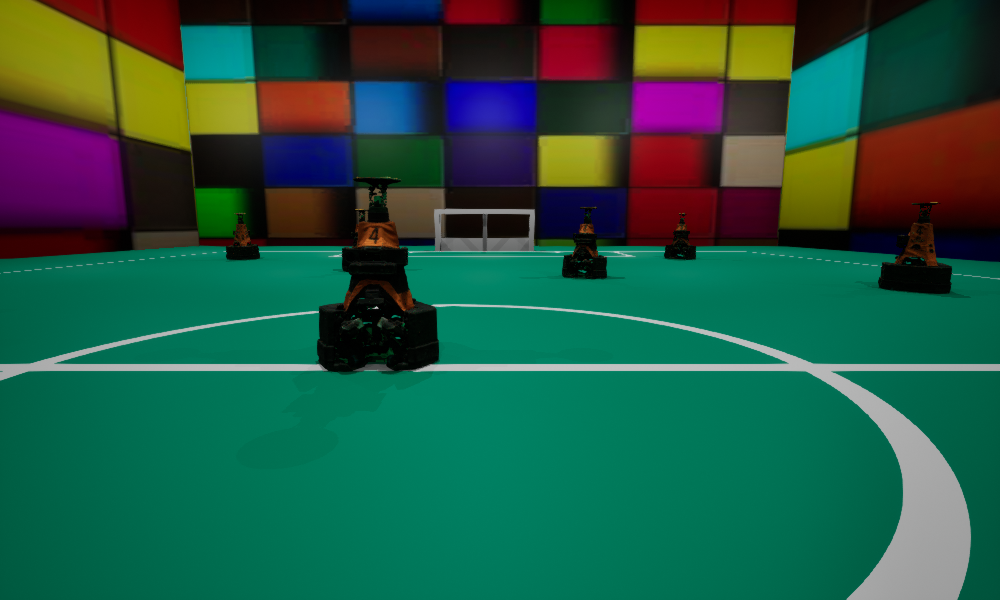0 orange robot TechUnited: (317, 177, 438, 371), (878, 202, 951, 293), (562, 207, 606, 277), (342, 209, 380, 271), (226, 213, 259, 259), (664, 213, 695, 258)
